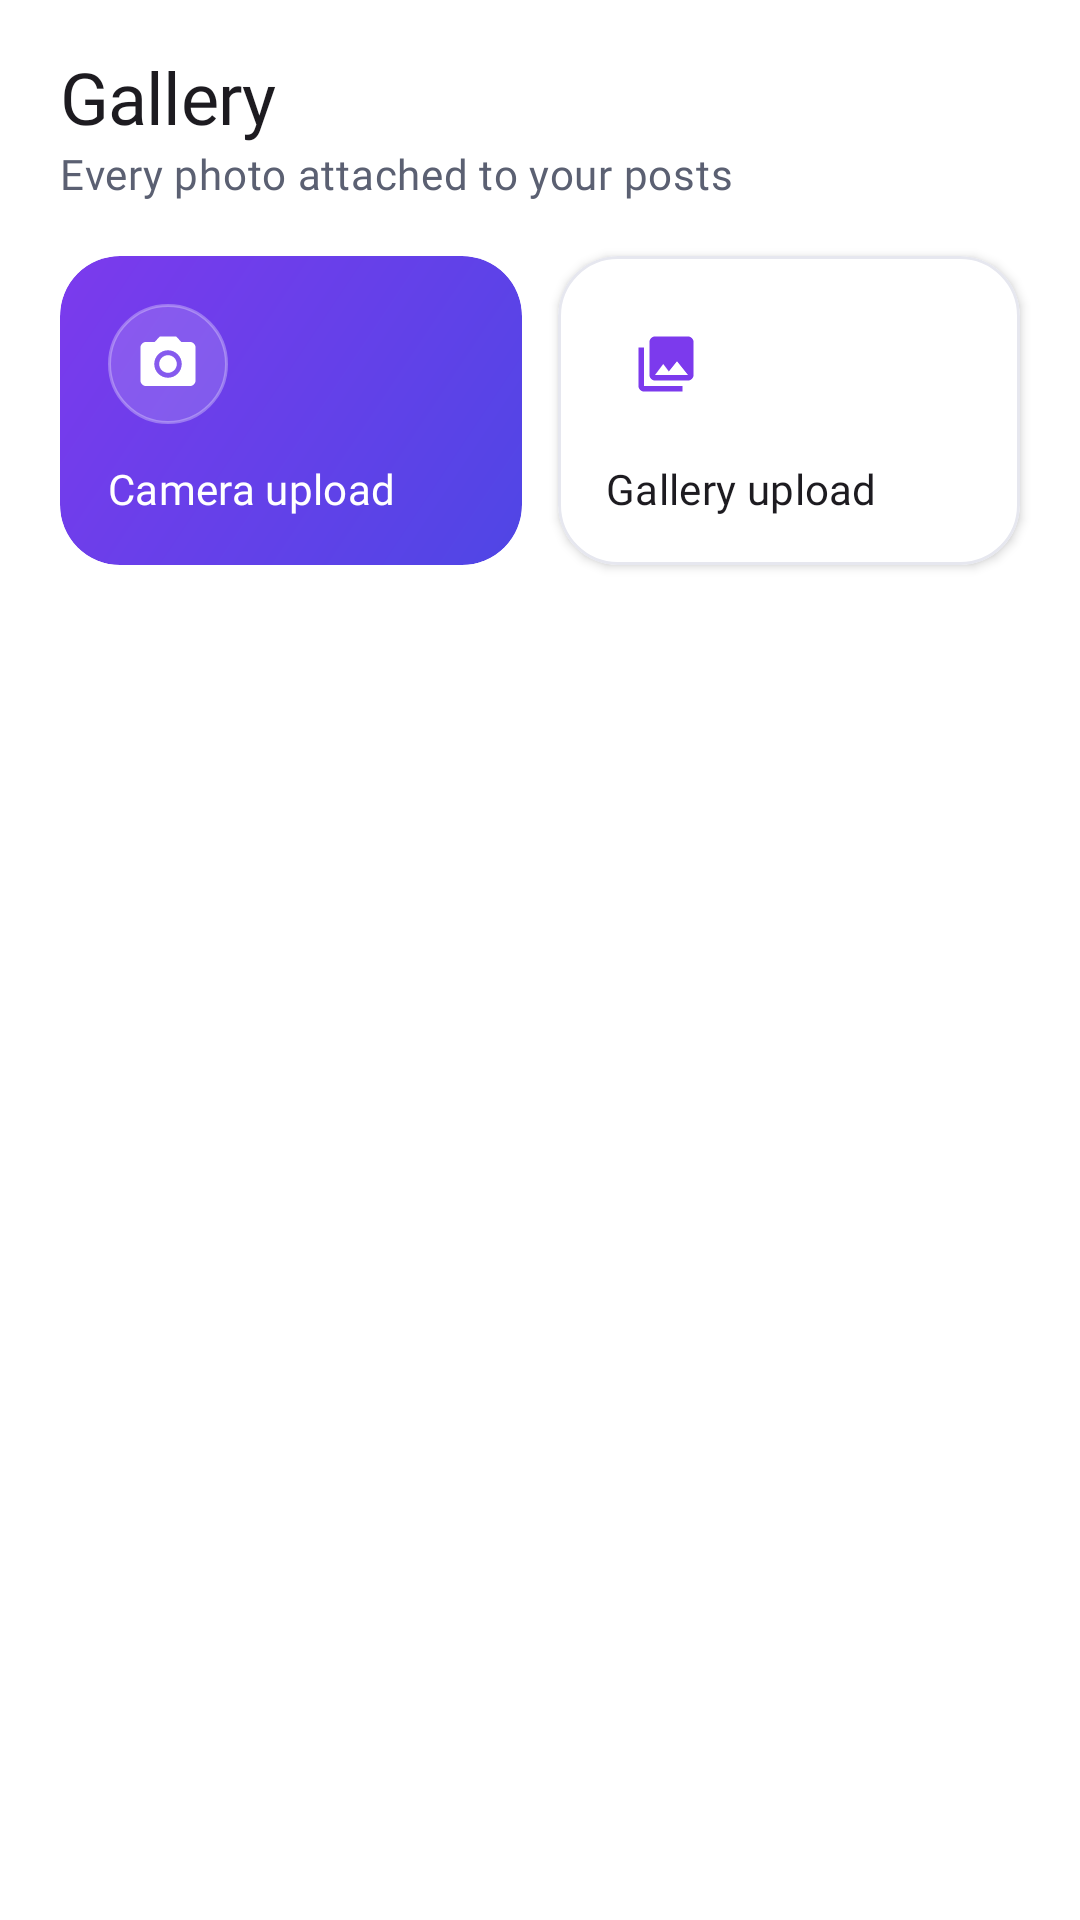

Icon click points for this 1080px x 1920px phone screenshot, format point (x, y):
photo library: point (666, 364)
